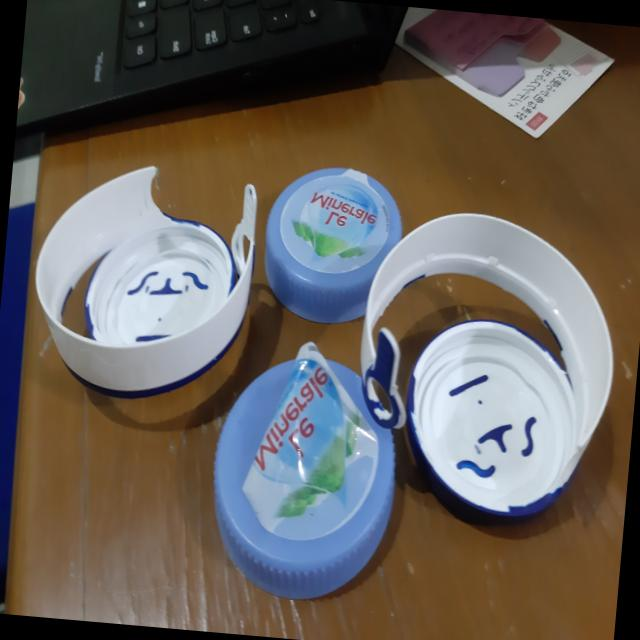TutupGalon: (2, 124, 632, 606)
